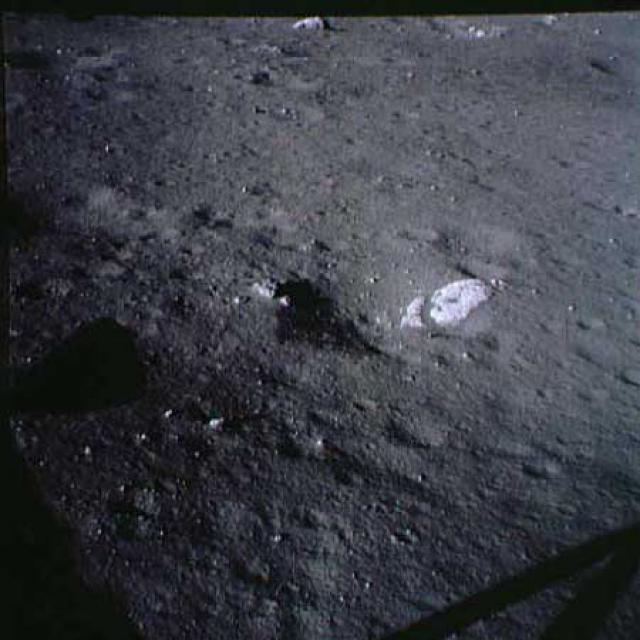rock: (402, 272, 494, 334), (284, 10, 331, 34)
